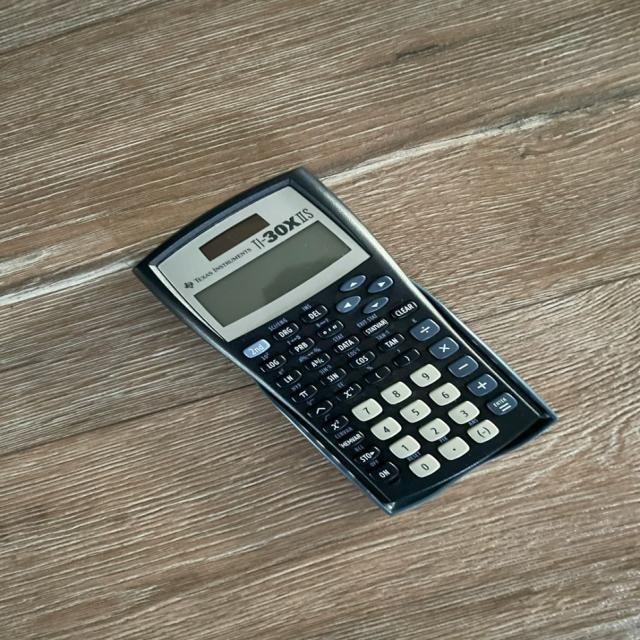Calculator: (132, 166, 559, 508)
